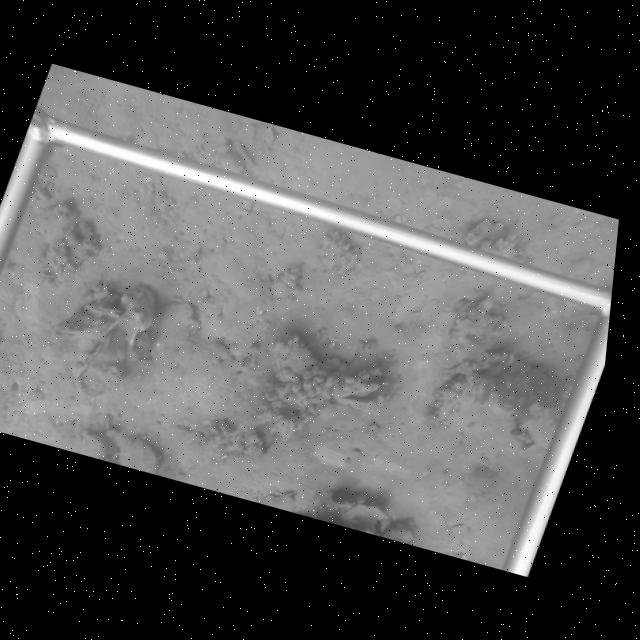Oyster-Closed: (106, 429, 161, 473), (80, 301, 128, 322)
Oyster-Indeterminate: (69, 308, 144, 404), (341, 503, 389, 527)
Oyster-Open: (330, 377, 393, 414)
